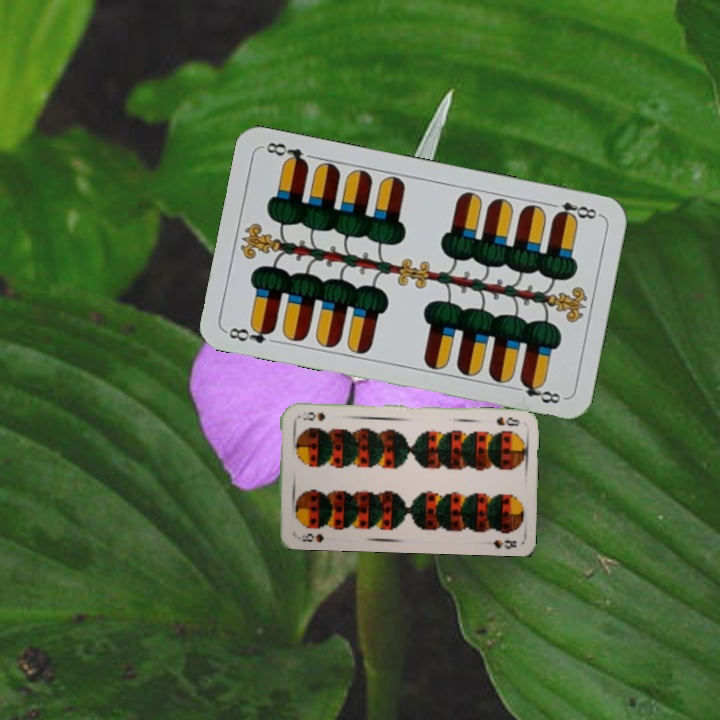E8: (544, 198, 603, 224), (223, 320, 277, 346)
S8: (291, 526, 326, 545), (493, 413, 523, 429)
